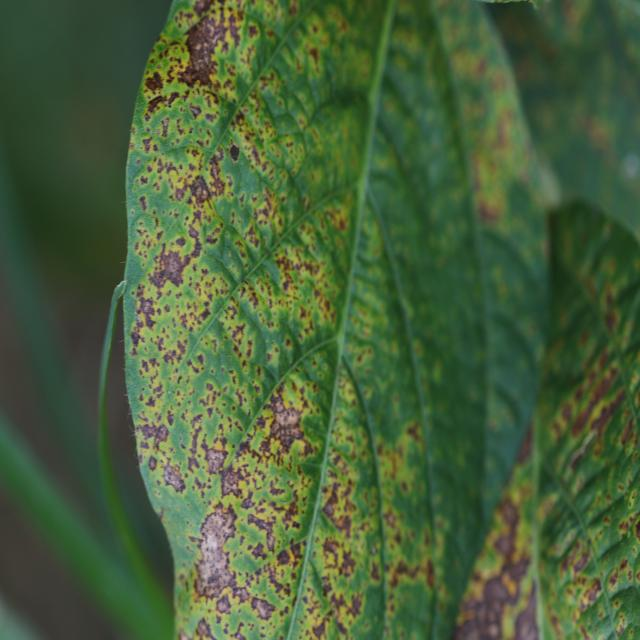Bacterial_Blight: (140, 228, 230, 354), (262, 222, 339, 339), (194, 503, 241, 599), (259, 388, 309, 458), (185, 372, 240, 435), (148, 239, 196, 294), (321, 577, 363, 635), (483, 103, 519, 170), (230, 108, 264, 160), (230, 543, 268, 577), (185, 165, 212, 211), (321, 535, 351, 573), (138, 419, 169, 453), (514, 600, 540, 640), (327, 200, 352, 240), (484, 574, 513, 606), (266, 561, 293, 595), (218, 464, 244, 499), (205, 156, 227, 197), (178, 59, 210, 87), (136, 292, 159, 329), (515, 421, 534, 464), (172, 6, 201, 34), (159, 40, 187, 68), (453, 614, 483, 640), (162, 461, 186, 493), (321, 485, 342, 521), (204, 445, 228, 475), (494, 529, 517, 558), (250, 595, 275, 620), (477, 198, 501, 224), (144, 70, 165, 93), (162, 345, 183, 368), (311, 615, 330, 639), (191, 0, 216, 18), (146, 94, 167, 115), (202, 87, 221, 108), (194, 617, 212, 638), (276, 546, 292, 566), (187, 455, 202, 476), (240, 491, 255, 510), (130, 328, 142, 348), (228, 142, 240, 162), (487, 621, 500, 638), (159, 117, 170, 137), (141, 135, 153, 153), (189, 103, 202, 119), (138, 195, 148, 212), (148, 456, 157, 471), (194, 42, 202, 53), (370, 543, 377, 555), (135, 157, 140, 164), (228, 251, 232, 259), (130, 209, 134, 215)
Soybean: (124, 0, 560, 640)
